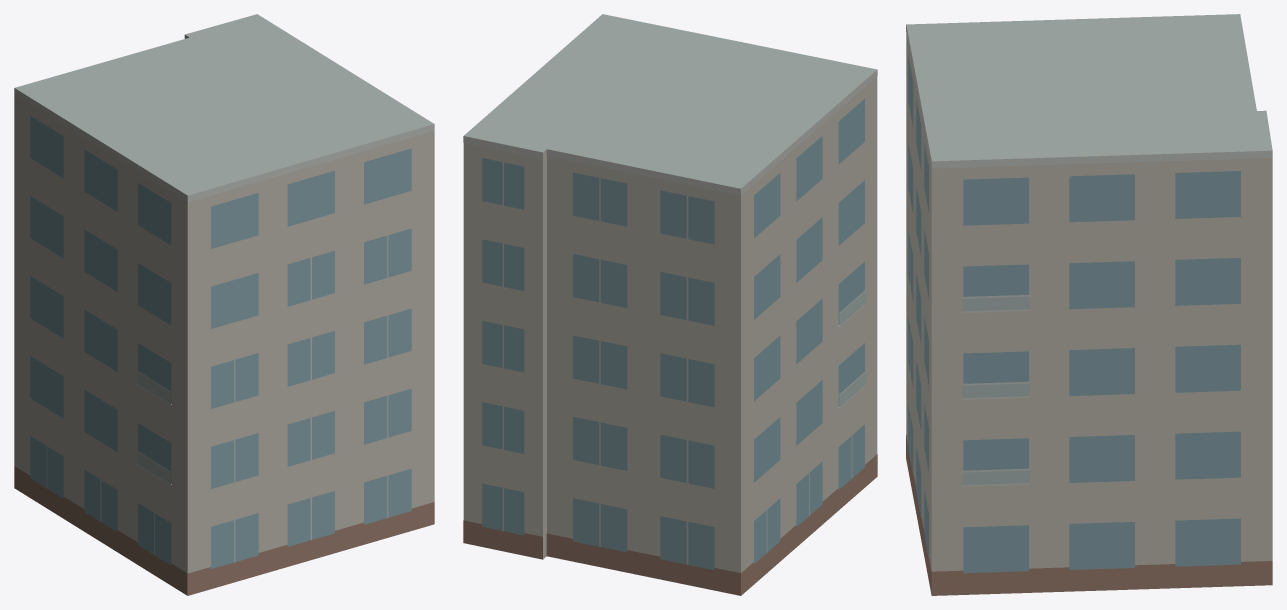
The model's file is survey-upis-32706167.glb.
3 renders of one model, left to right at view 1: azimuth 30°, elevation 25°; view 2: azimuth 150°, elevation 25°; view 3: azimuth 270°, elevation 25°, orthographic. The views are drawn at different scales.
Parts seen in each view (by area): view 1: survey-upis-32706167.tmp; view 2: survey-upis-32706167.tmp; view 3: survey-upis-32706167.tmp.
Boxes of the visible parts, x1,y1,x2,y2 form: survey-upis-32706167.tmp: [14, 14, 434, 595]; survey-upis-32706167.tmp: [463, 14, 877, 595]; survey-upis-32706167.tmp: [906, 14, 1272, 595].
Bounding box in the file's own units: 10.7 × 14.7 × 11.24.
